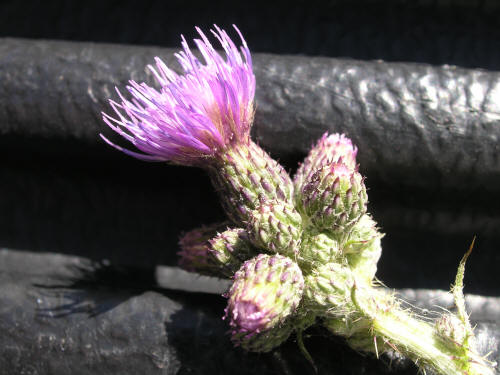thistle: (112, 26, 298, 214)
